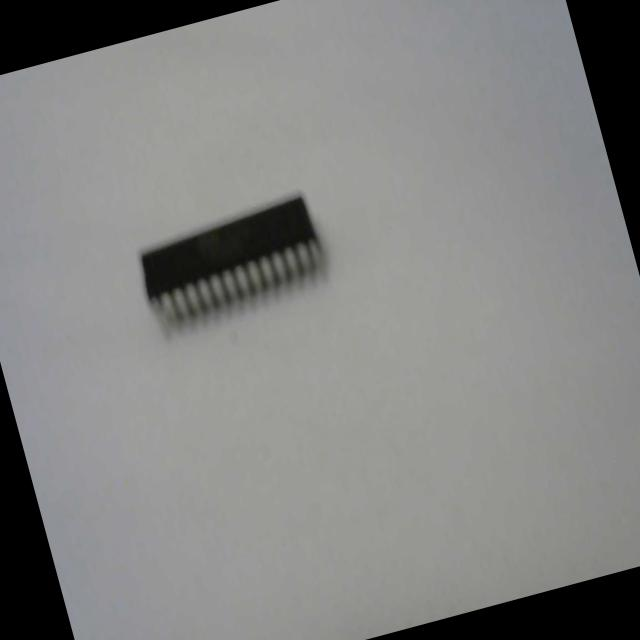atmega: (126, 184, 337, 343)
